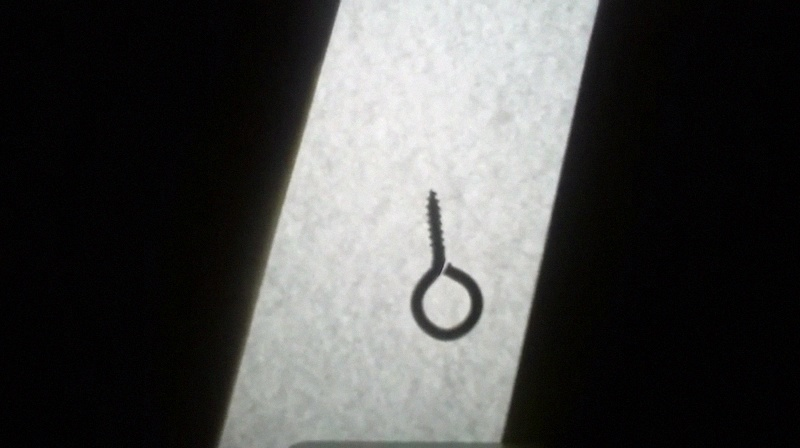O001: (406, 186, 487, 344)
